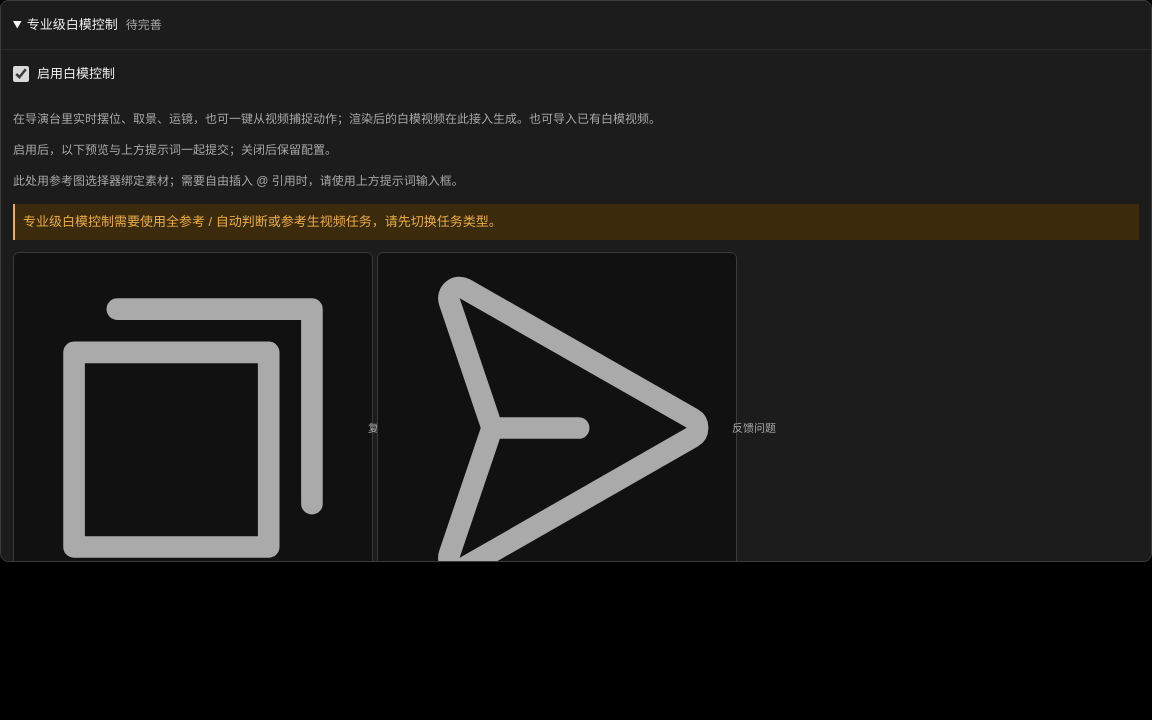
Test: WhiteModelControlSection › allows disabling retained settings on incompatible doubao-seedance-2-5-260628 / edit
The width and height of the screenshot is (1152, 720).
Expected: the message shows "请先切换任务类型", [23, 214, 502, 229]
Click the checkbox labelled "启用白模控制" at (21, 74), box [13, 66, 29, 82]
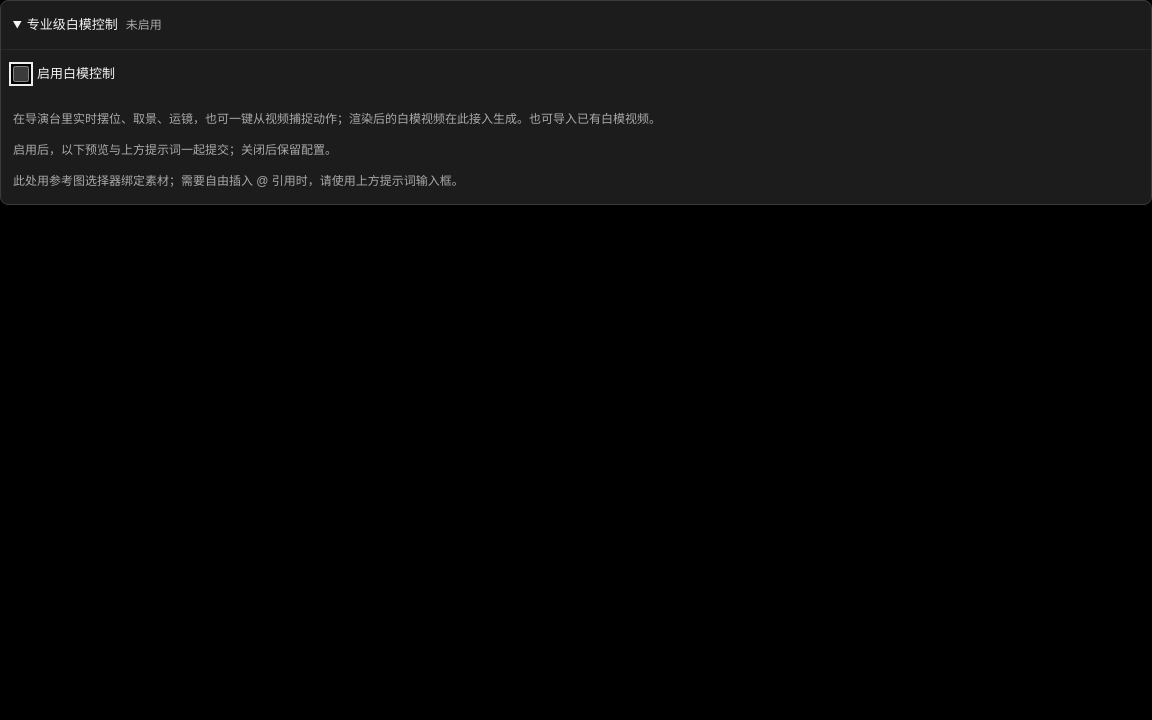
Result: the message "专业级白模控制需要使用全参考 / 自动判断或参考生视频任务，请先切换任务类型。" is gone
